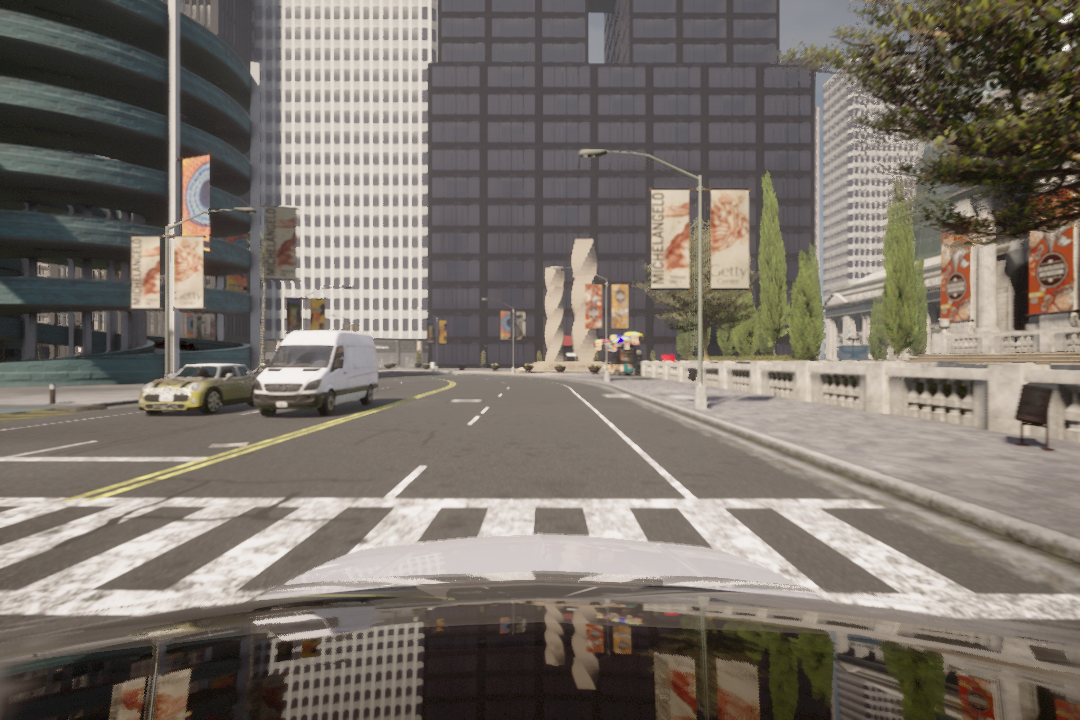walkside: (2, 492, 1080, 626)
